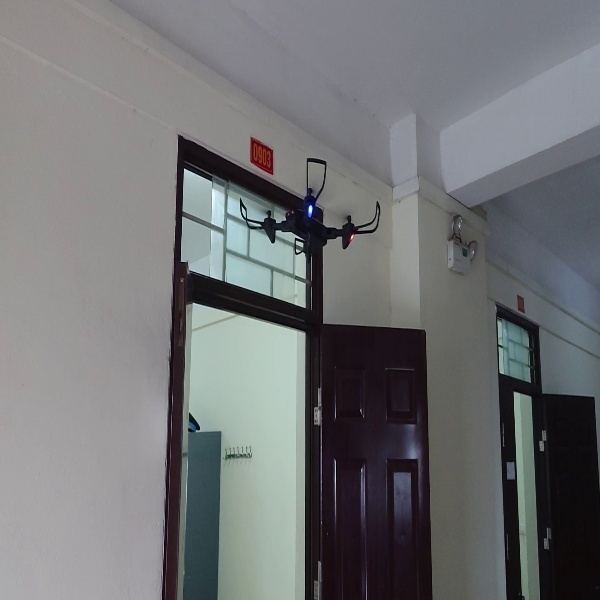drone: (238, 151, 383, 266)
